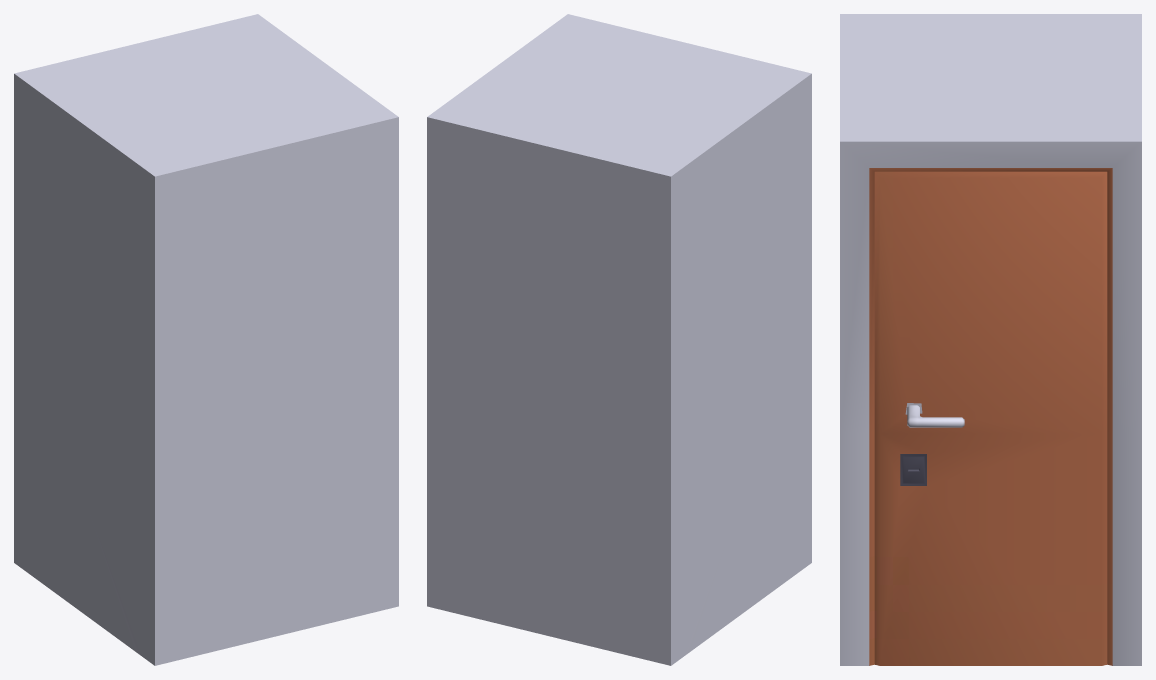
Rendered from obj_wall_door_v2.FBX.
3 renders of one model, left to right at view 1: azimuth 30°, elevation 25°; view 2: azimuth 150°, elevation 25°; view 3: azimuth 270°, elevation 25°, orthographic. The views are drawn at different scales.
Visible parts, largest first — view 1: obj_wall_door; view 2: obj_wall_door; view 3: obj_wall_door.
Part boxes in pixels (x1,y1,x2,y2): obj_wall_door: (14,14,398,665); obj_wall_door: (427,14,811,665); obj_wall_door: (840,14,1141,665).
Bounding box in the file's own units: 1.12 × 1.92 × 1.
